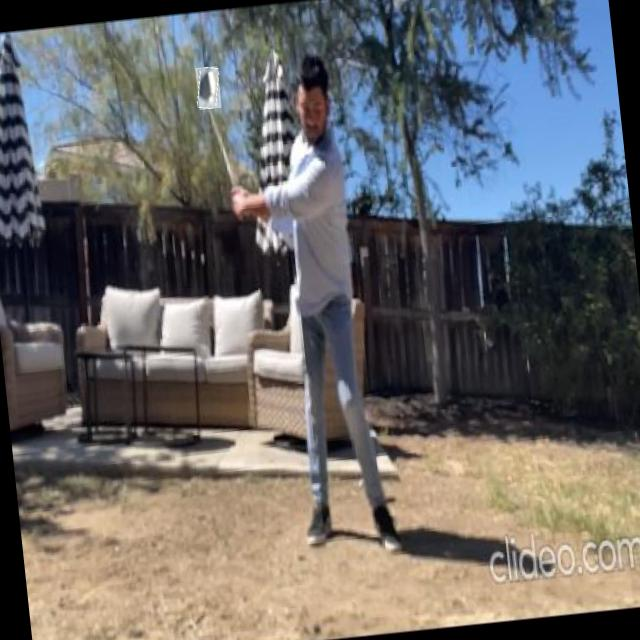club head: (195, 66, 221, 110)
